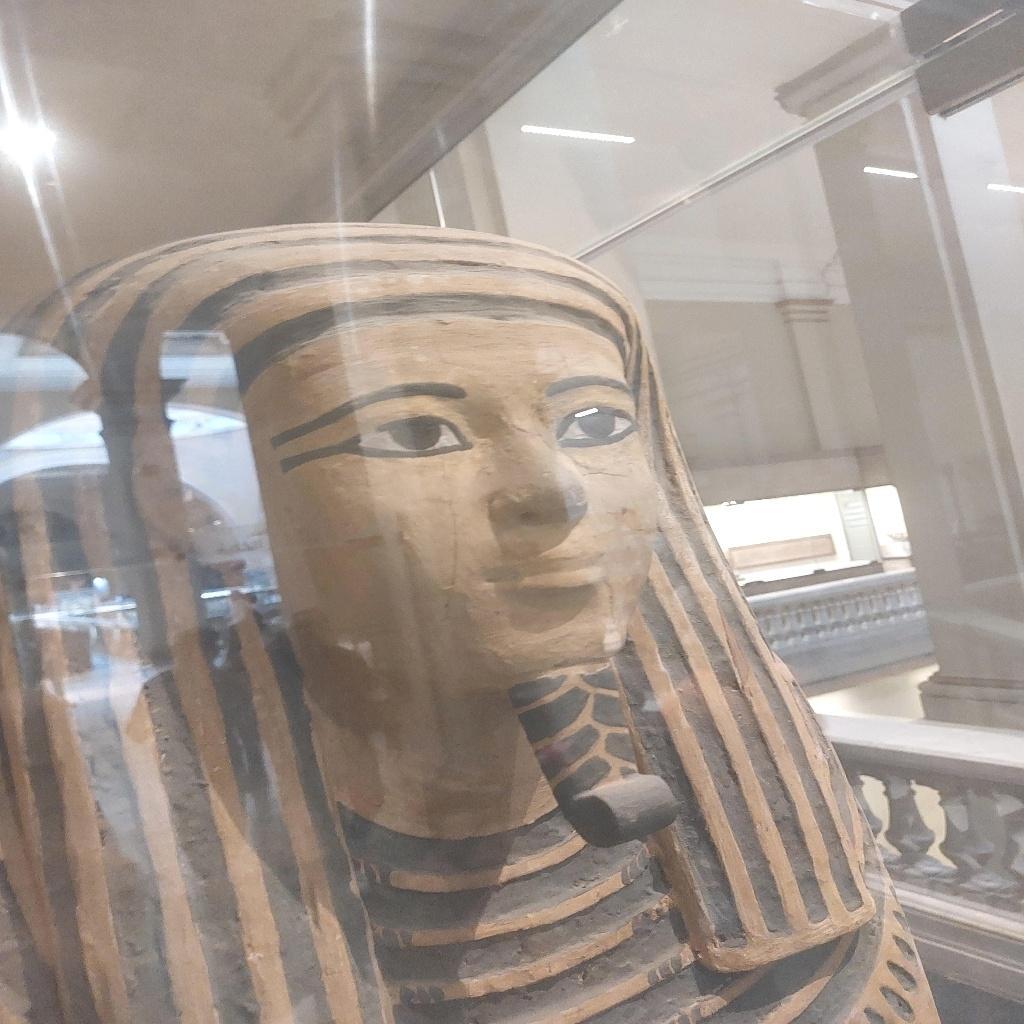Coffin of Ahmose I: (4, 220, 940, 1022)
